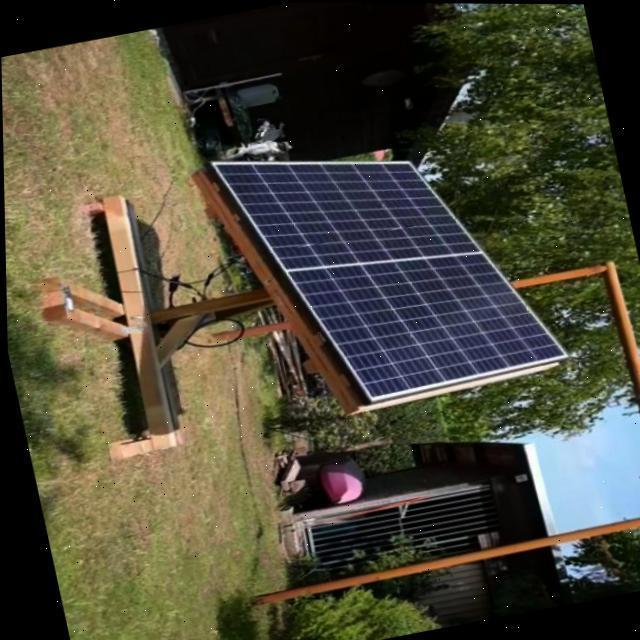Normal Solar Panel: (213, 106, 564, 422)
